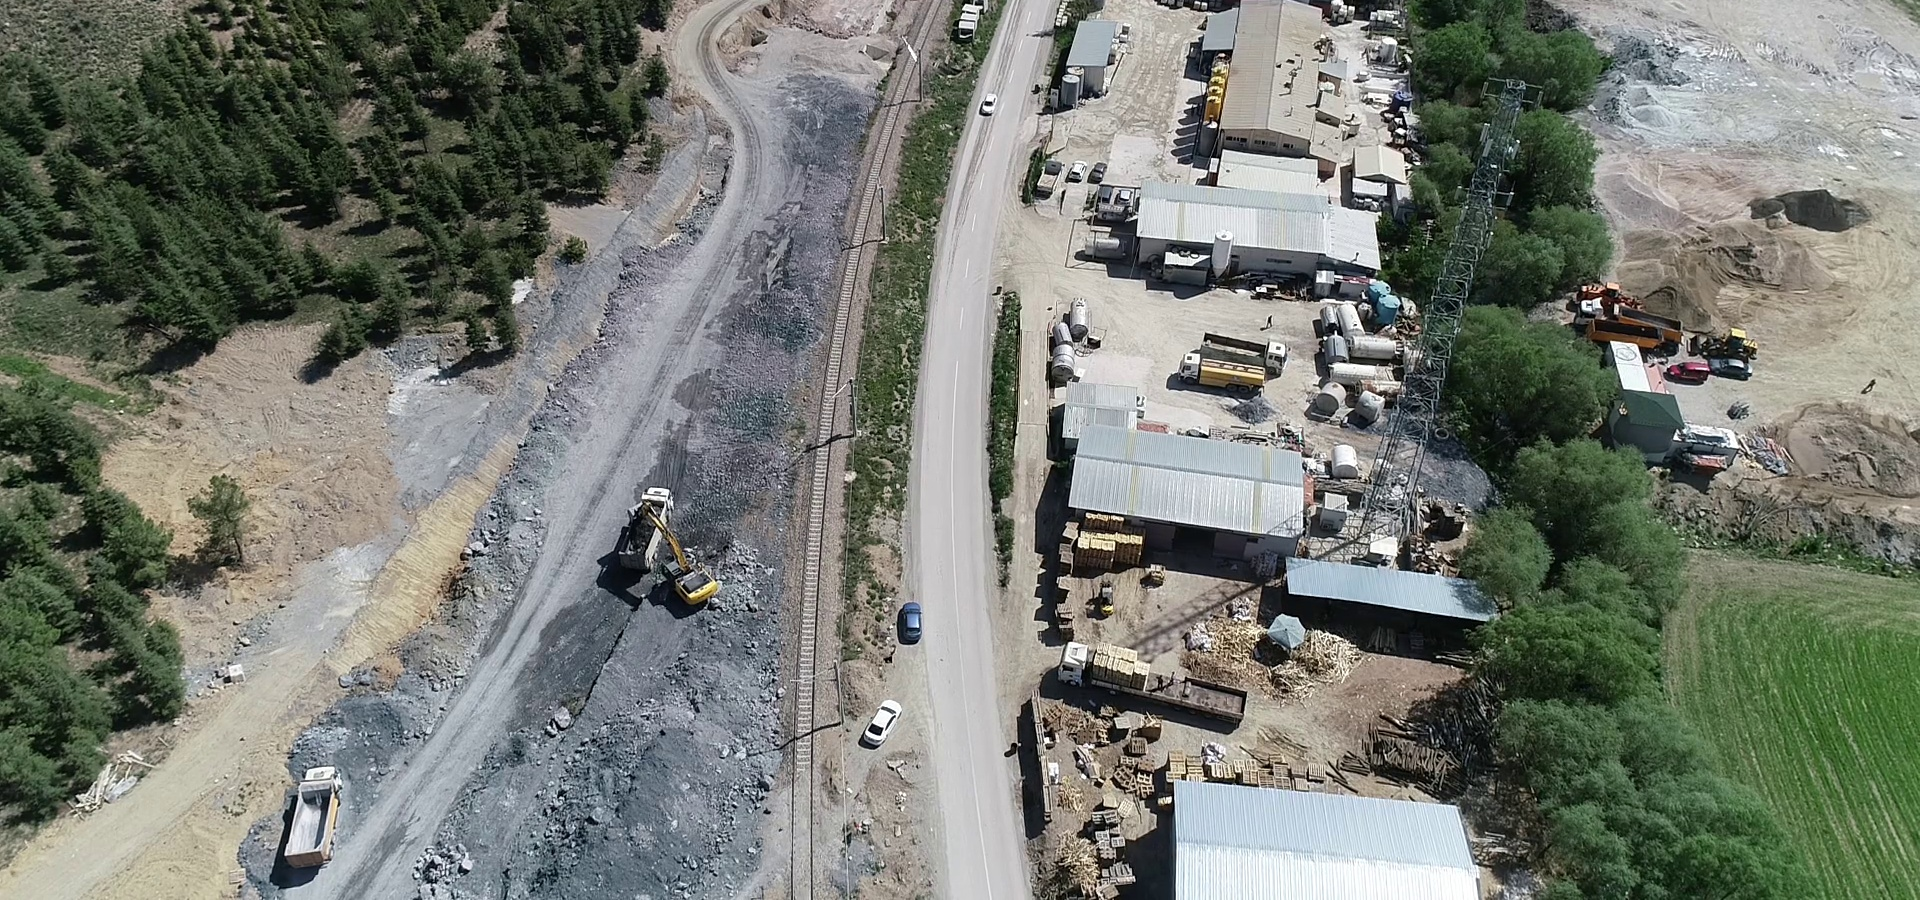araba: (858, 692, 907, 749), (891, 592, 933, 645), (1714, 351, 1771, 374), (1667, 356, 1719, 379), (978, 92, 1001, 128)
insan: (1861, 370, 1878, 400), (1263, 306, 1277, 328)
ismakinesi: (632, 485, 721, 629)
kamyon: (1057, 631, 1267, 729), (266, 751, 353, 872), (612, 487, 675, 574), (1198, 328, 1308, 369), (1175, 344, 1276, 388)
traktor: (1676, 313, 1775, 354)
